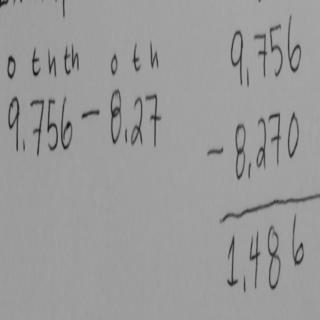.: (240, 274, 249, 293), (244, 65, 251, 88), (246, 159, 253, 180), (21, 138, 28, 153), (122, 126, 128, 143)
0: (286, 112, 300, 160)
1: (225, 235, 239, 287)
2: (129, 96, 145, 147), (255, 117, 268, 170)
4: (247, 229, 262, 289)
5: (268, 23, 285, 78), (46, 96, 59, 153)
6: (286, 13, 303, 75), (290, 214, 308, 265), (59, 95, 74, 152)
7: (144, 93, 163, 149), (266, 112, 284, 167), (29, 97, 45, 157), (251, 31, 269, 79)
8: (266, 225, 282, 290), (109, 89, 123, 145), (234, 123, 246, 182)
9: (6, 96, 21, 152), (229, 29, 244, 85)
